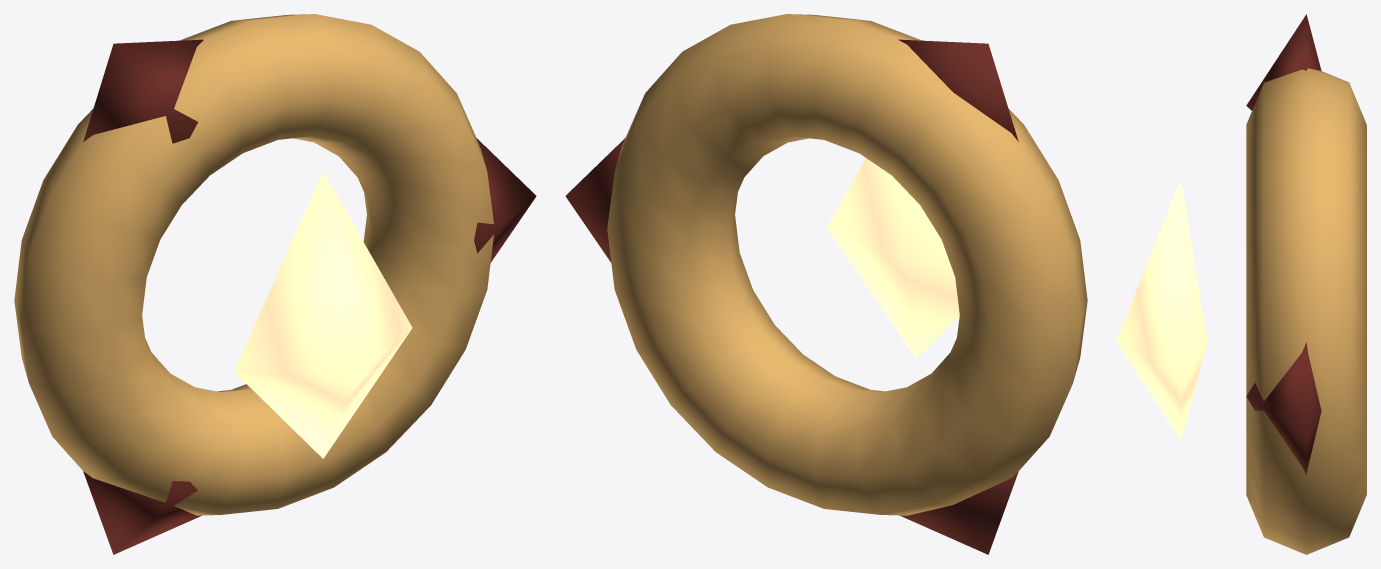
The model's file is boss_dragonforge_accessory_1.glb.
The picture shows the model from 3 angles, left to right: view 1: azimuth 30°, elevation 25°; view 2: azimuth 150°, elevation 25°; view 3: azimuth 270°, elevation 25°; orthographic projection. The views are drawn at different scales.
Visible parts, largest first — view 1: Boss_dragonforge_1, Boss_dragonforge_2, Boss_dragonforge_0; view 2: Boss_dragonforge_1, Boss_dragonforge_2, Boss_dragonforge_0; view 3: Boss_dragonforge_1, Boss_dragonforge_2, Boss_dragonforge_0.
Part boxes in pixels (x1=…): Boss_dragonforge_1: x1=14, y1=14, x2=493, y2=515; Boss_dragonforge_2: x1=234, y1=171, x2=412, y2=458; Boss_dragonforge_0: x1=83, y1=39, x2=536, y2=554; Boss_dragonforge_1: x1=607, y1=14, x2=1087, y2=515; Boss_dragonforge_2: x1=827, y1=158, x2=959, y2=358; Boss_dragonforge_0: x1=565, y1=39, x2=1018, y2=554; Boss_dragonforge_1: x1=1246, y1=68, x2=1366, y2=554; Boss_dragonforge_2: x1=1116, y1=179, x2=1207, y2=440; Boss_dragonforge_0: x1=1246, y1=14, x2=1321, y2=474.
Size of the model in its own units: 0.117 by 0.1109 by 0.054.
